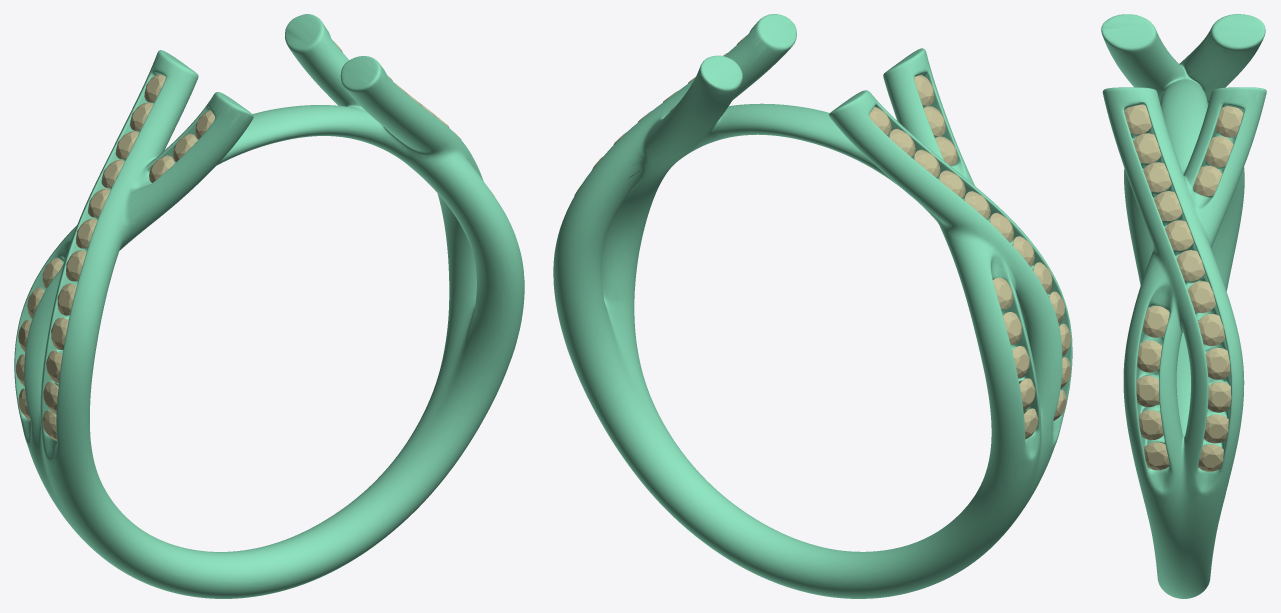
3 renders of one model, left to right at view 1: azimuth 30°, elevation 25°; view 2: azimuth 150°, elevation 25°; view 3: azimuth 270°, elevation 25°, orthographic.
Visible parts, largest first — view 1: Metal02; view 2: Metal02; view 3: Metal02, Diamond_Gem.007, Diamond_Gem.006, Diamond_Gem.015, Diamond_Gem.014, Diamond_Gem.016, Diamond_Gem.002, Diamond_Gem.013, Diamond_Gem.001, Diamond_Gem.005, Diamond_Gem, Diamond_Gem.009 (+9 smaller).
Boxes of the visible parts, left/top/right/bottom form: Metal02: left=14, top=14, right=524, bottom=598; Metal02: left=553, top=14, right=1072, bottom=598; Metal02: left=1101, top=14, right=1266, bottom=598; Diamond_Gem.007: left=1142, top=305, right=1169, bottom=337; Diamond_Gem.006: left=1137, top=340, right=1161, bottom=372; Diamond_Gem.015: left=1198, top=314, right=1225, bottom=345; Diamond_Gem.014: left=1187, top=281, right=1215, bottom=312; Diamond_Gem.016: left=1205, top=348, right=1230, bottom=379; Diamond_Gem.002: left=1215, top=106, right=1243, bottom=137; Diamond_Gem.013: left=1176, top=250, right=1204, bottom=281; Diamond_Gem.001: left=1205, top=136, right=1233, bottom=167; Diamond_Gem.005: left=1136, top=375, right=1159, bottom=407; Diamond_Gem: left=1193, top=166, right=1222, bottom=196; Diamond_Gem.009: left=1133, top=133, right=1161, bottom=163.
Bounding box in the file's own units: 21.07 × 22.51 × 6.45.
